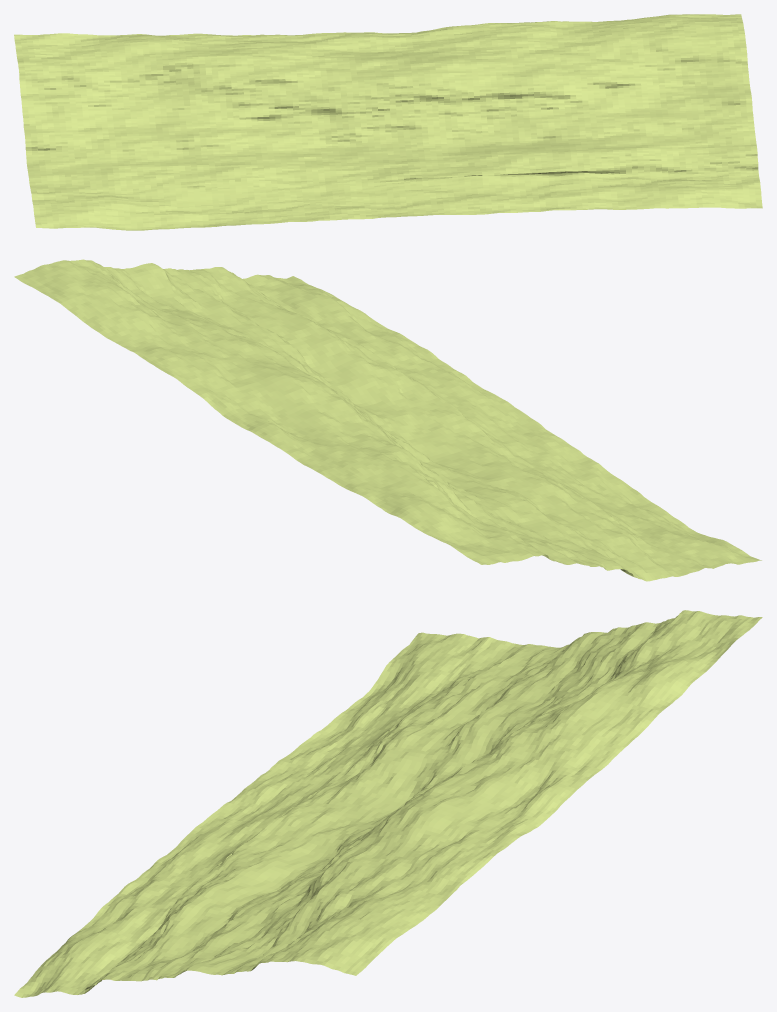
The model's file is Cliff_005.fbx.
3 renders of one model, top to bottom at view 1: azimuth 30°, elevation 25°; view 2: azimuth 150°, elevation 25°; view 3: azimuth 270°, elevation 25°, orthographic. The views are drawn at different scales.
Parts seen in each view (by area): view 1: Plane.005; view 2: Plane.005; view 3: Plane.005.
Boxes of the visible parts, box(x1,y1,x2,y2) form: Plane.005: box(14, 14, 762, 230); Plane.005: box(14, 259, 761, 581); Plane.005: box(14, 610, 762, 997).
Bounding box in the file's own units: 9258 × 1016 × 6872.
